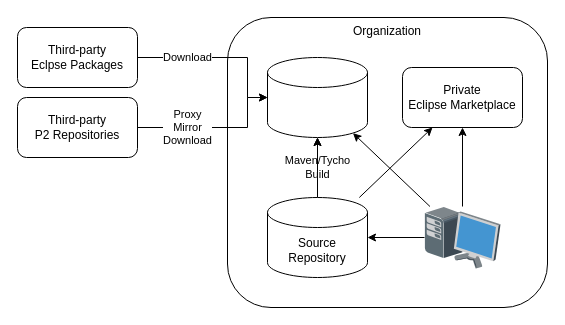
Some shapes in this 565 by 325 pixel diagram are drawn without their labels. The centre of each missing label's shape, as x and y in pixels:
"Binary Repository" belongs at (317,97).
"Developer Workstation" belongs at (462,237).
